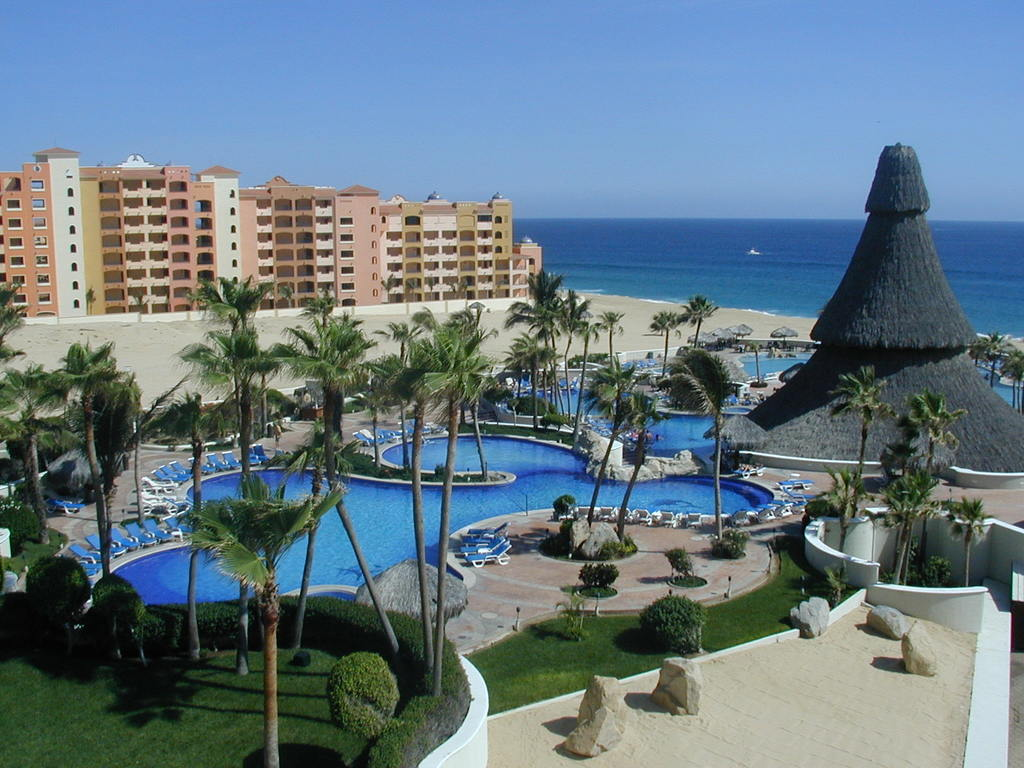Tree: (0, 267, 1024, 768)
